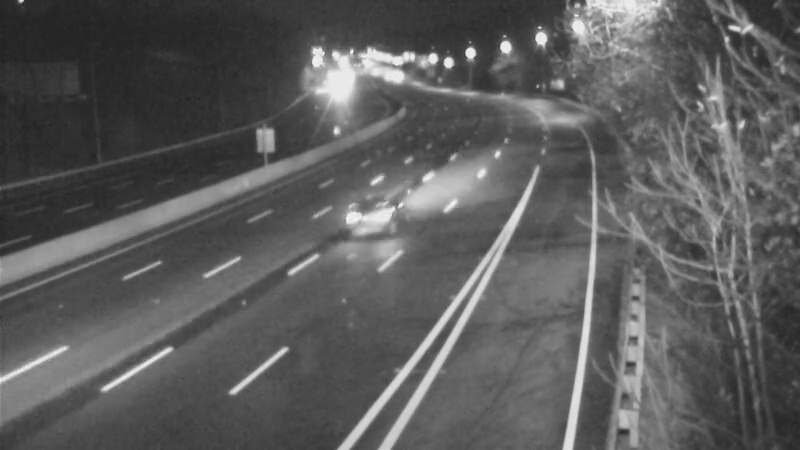vehicle: (334, 177, 414, 257), (311, 66, 361, 116)
